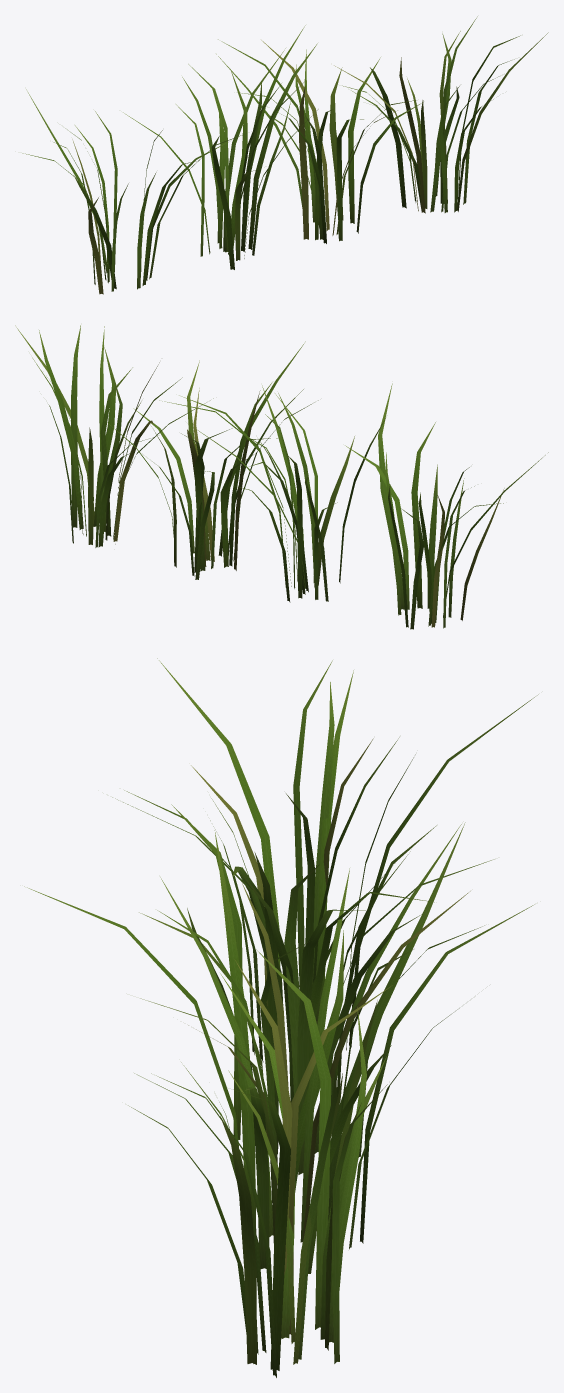
The model's file is grass_tall_lod1.glb.
3 renders of one model, top to bottom at view 1: azimuth 30°, elevation 25°; view 2: azimuth 150°, elevation 25°; view 3: azimuth 270°, elevation 25°, orthographic. The views are drawn at different scales.
Visible parts, largest first — view 1: Grass_tall_02_LOD1, Grass_tall_03_LOD1, Grass_tall_04_LOD1, Grass_tall_01_LOD1; view 2: Grass_tall_04_LOD1, Grass_tall_01_LOD1, Grass_tall_03_LOD1, Grass_tall_02_LOD1; view 3: Grass_tall_04_LOD1, Grass_tall_03_LOD1, Grass_tall_02_LOD1, Grass_tall_01_LOD1.
Boxes of the visible parts, bbox=[...] form: Grass_tall_02_LOD1: bbox=[123, 25, 318, 269]; Grass_tall_03_LOD1: bbox=[216, 39, 421, 243]; Grass_tall_04_LOD1: bbox=[334, 16, 548, 213]; Grass_tall_01_LOD1: bbox=[22, 89, 244, 294]; Grass_tall_04_LOD1: bbox=[15, 325, 213, 547]; Grass_tall_01_LOD1: bbox=[345, 383, 548, 629]; Grass_tall_03_LOD1: bbox=[102, 341, 318, 579]; Grass_tall_02_LOD1: bbox=[159, 385, 385, 602]; Grass_tall_04_LOD1: bbox=[128, 949, 392, 1377]; Grass_tall_03_LOD1: bbox=[24, 822, 534, 1273]; Grass_tall_02_LOD1: bbox=[139, 804, 494, 1174]; Grass_tall_01_LOD1: bbox=[112, 658, 538, 1062].
Bounding box in the file's own units: 4.07 × 1.39 × 1.83.
1 material, 1 textured.
